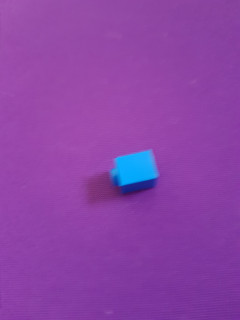1x1 blue: (105, 147, 162, 198)
